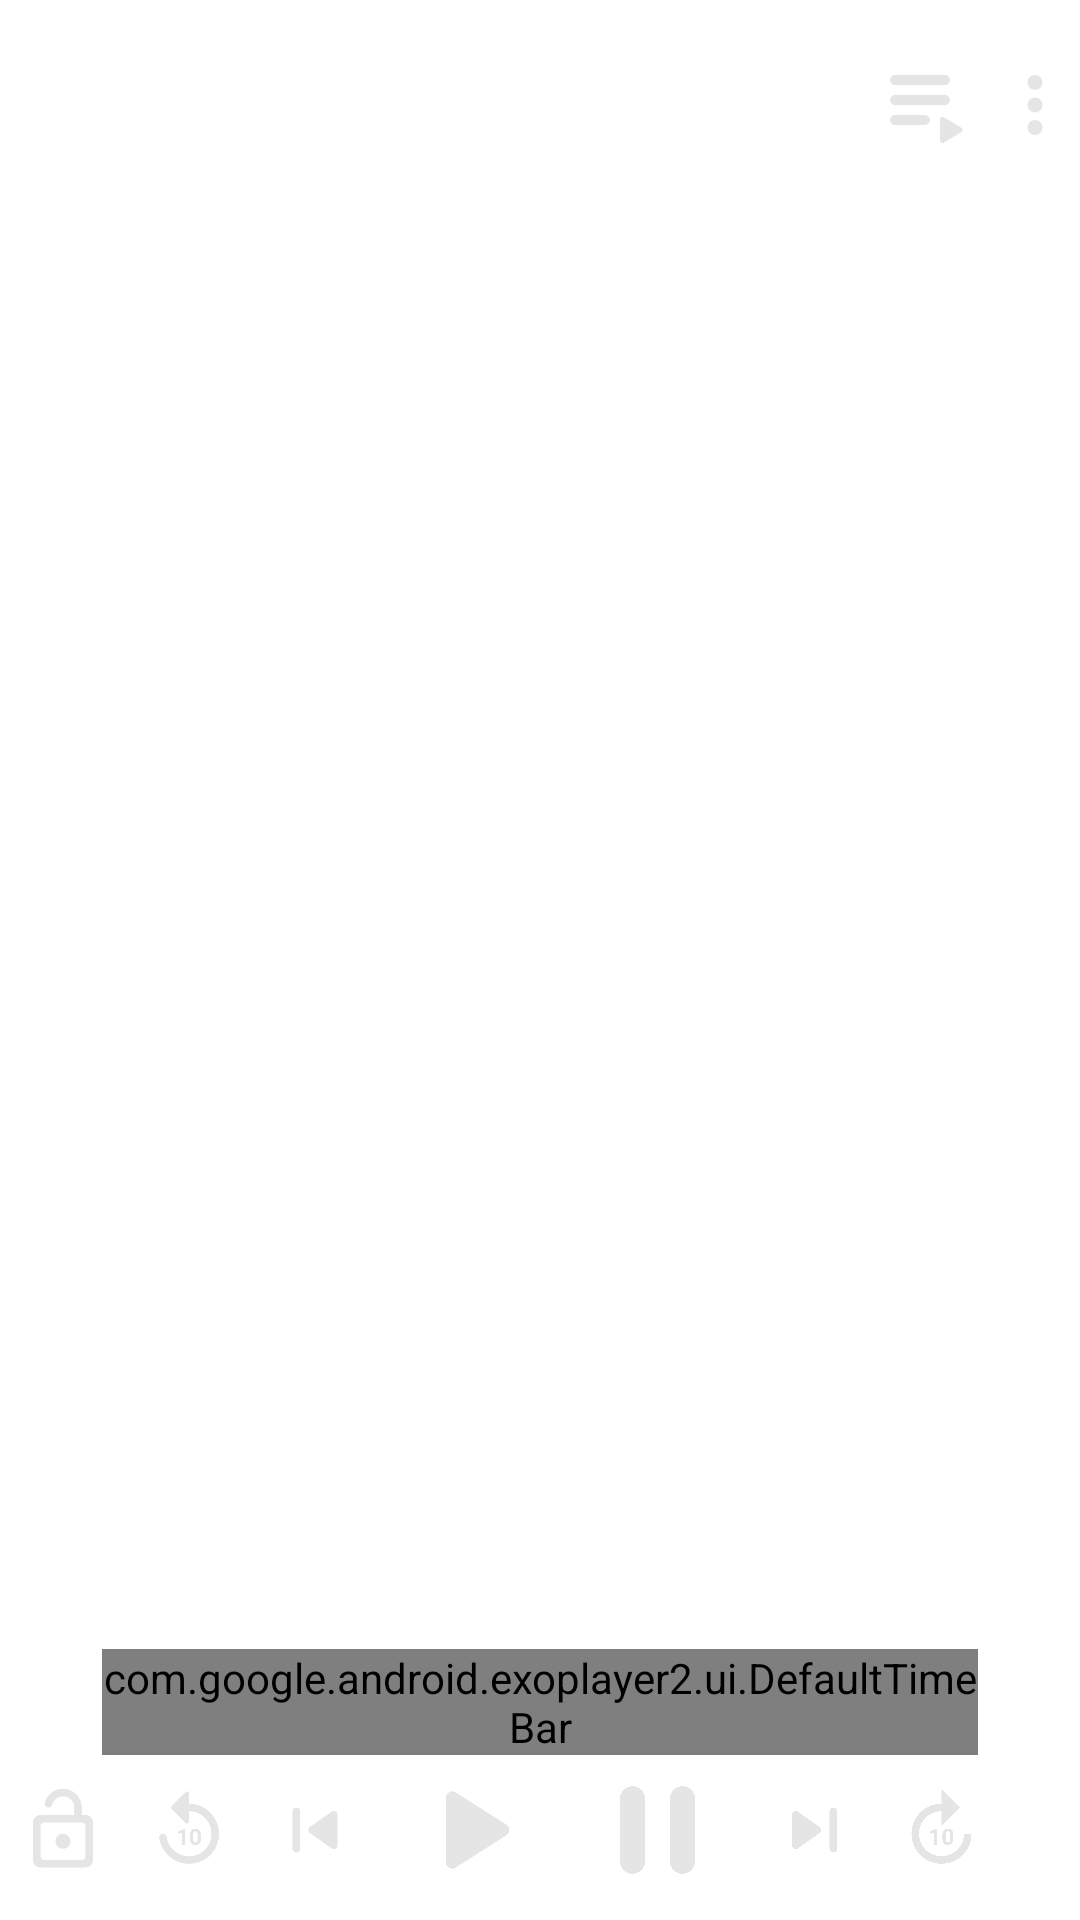

Locate icon controls on the screen. Image size 1080x1920, boxes as bbox=(x1, y1, x2, y2).
forward: bbox=(912, 1790, 971, 1864)
more: bbox=(1028, 75, 1042, 135)
pause: bbox=(620, 1786, 695, 1874)
playlist: bbox=(890, 75, 962, 143)
rewind: bbox=(160, 1792, 219, 1863)
skip next: bbox=(792, 1808, 837, 1852)
skip previous: bbox=(293, 1808, 337, 1852)
unlock: bbox=(33, 1789, 93, 1867)
